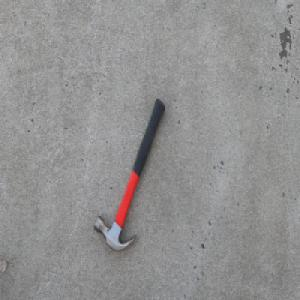Hammer: (93, 97, 165, 253)
